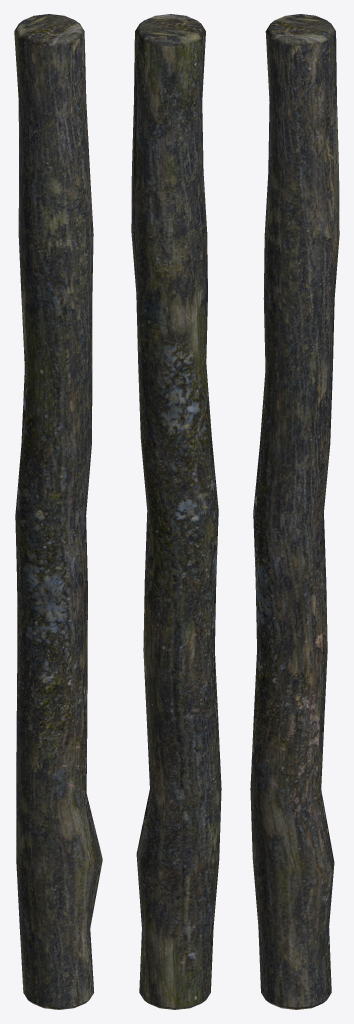
File: FenceVertical_1.fbx
3 views of the same model, side by side, from view 1: azimuth 30°, elevation 25°; view 2: azimuth 150°, elevation 25°; view 3: azimuth 330°, elevation 25° (orthographic).
Parts seen in each view (by area): view 1: FenceVertical; view 2: FenceVertical; view 3: FenceVertical.
Boxes of the visible parts, x1,y1,x2,y2 form: FenceVertical: [14, 14, 102, 1009]; FenceVertical: [131, 14, 221, 1009]; FenceVertical: [250, 14, 339, 1009].
Size of the model in its own units: 9.33 by 110 by 8.88.
